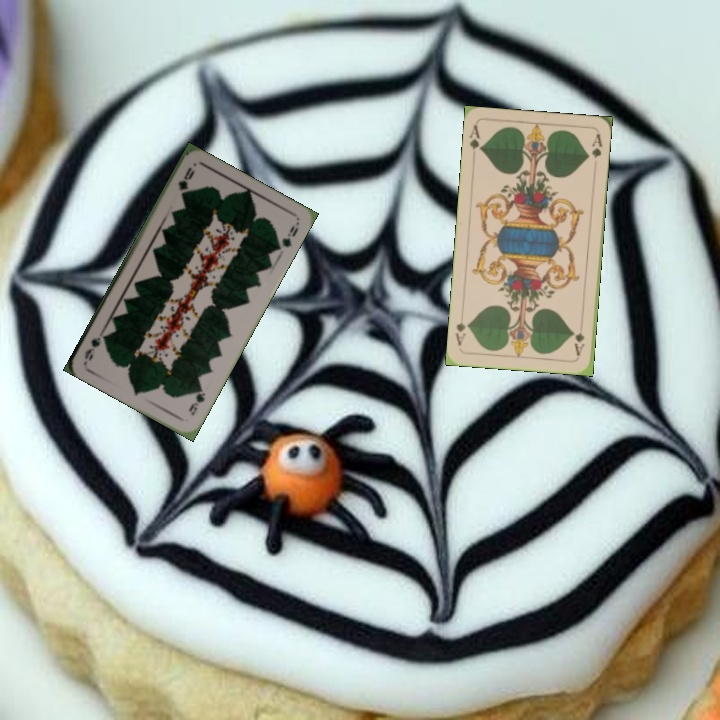G9: (184, 381, 208, 418), (174, 163, 197, 201)
GA: (465, 121, 485, 154), (571, 329, 587, 358)
